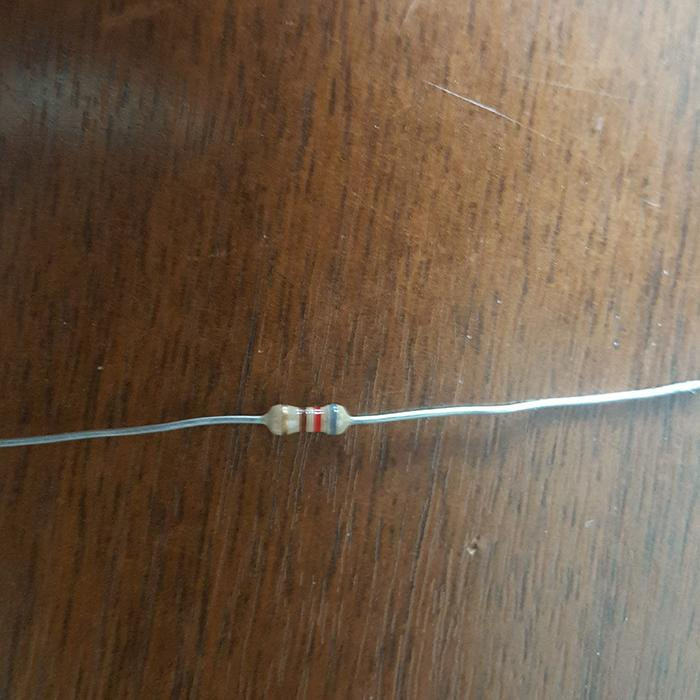resistor: (261, 402, 349, 436)
